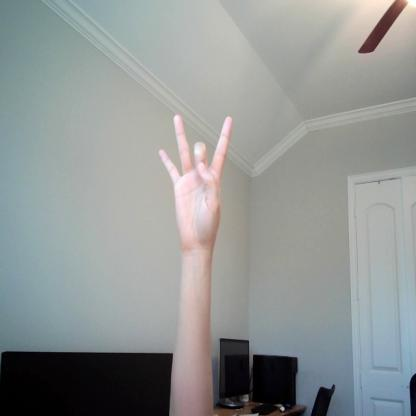eight: (156, 110, 237, 257)
